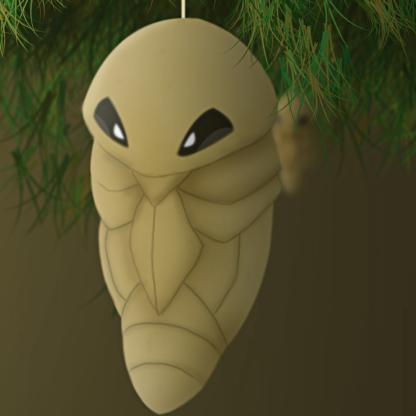Kakuna: (83, 14, 283, 416)
